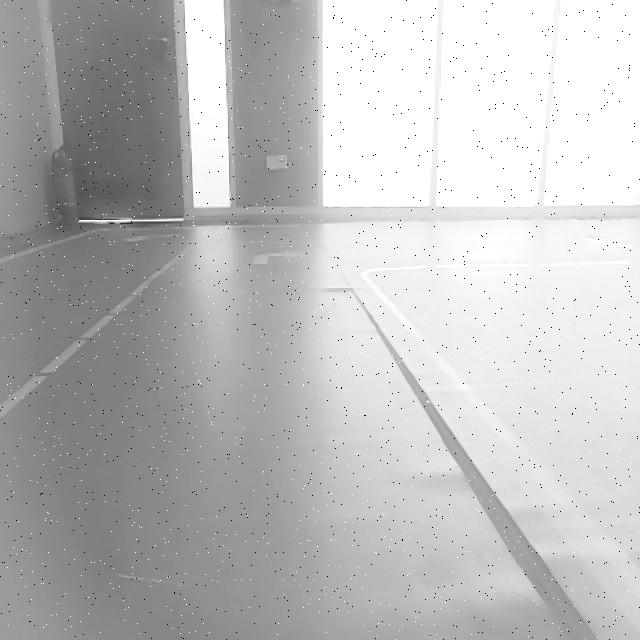left_lane: (0, 242, 198, 426)
right_lane: (361, 276, 637, 622)
